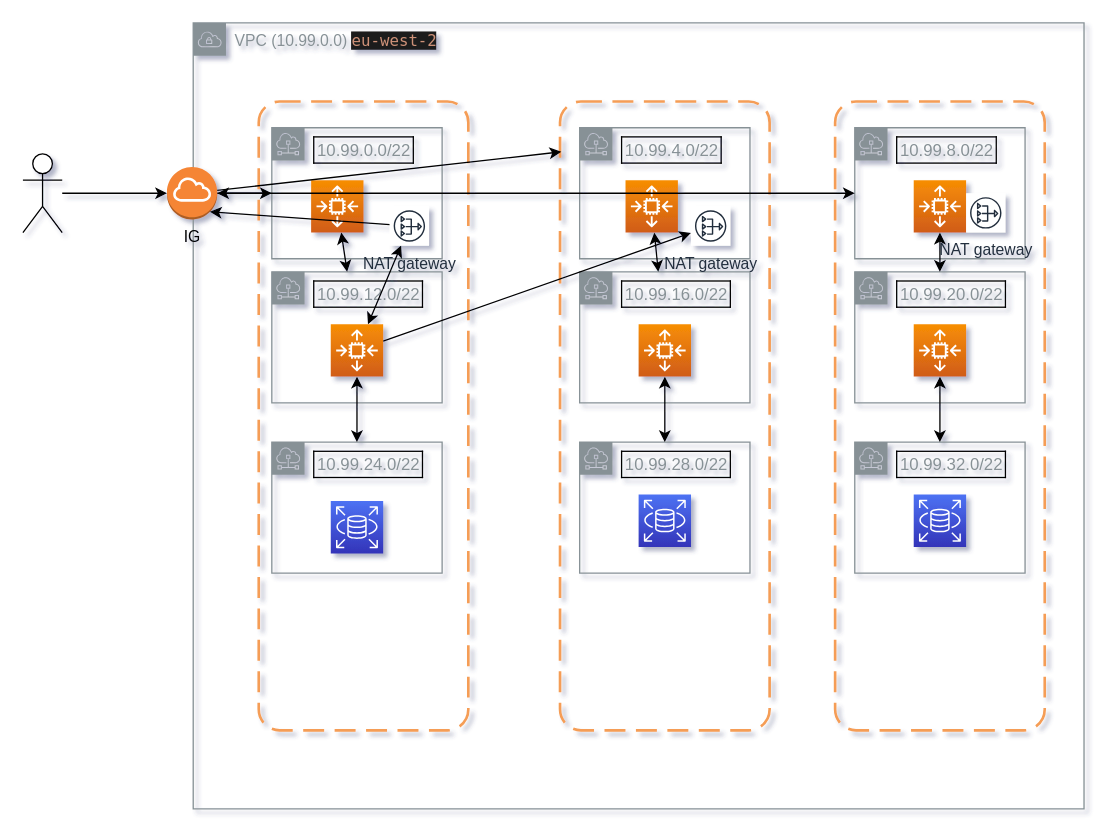
Image size: 1115x840. Some labels were removed from this diagram. Here are the shapes that lost their labels. From the top down, the box of each, then its label:
(22, 153, 62, 233): Actor
(257, 100, 469, 731): eu-west-2a
(558, 100, 770, 731): eu-west-2b
(833, 100, 1045, 731): eu-west-2c
